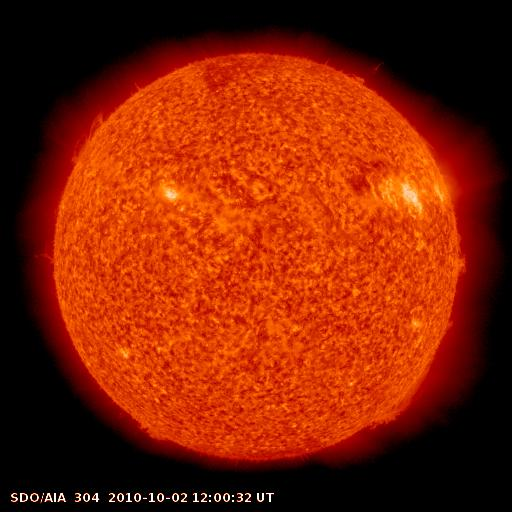prominence: (360, 366, 432, 437), (71, 105, 109, 168), (342, 53, 392, 94), (28, 236, 70, 276), (448, 221, 475, 283)
